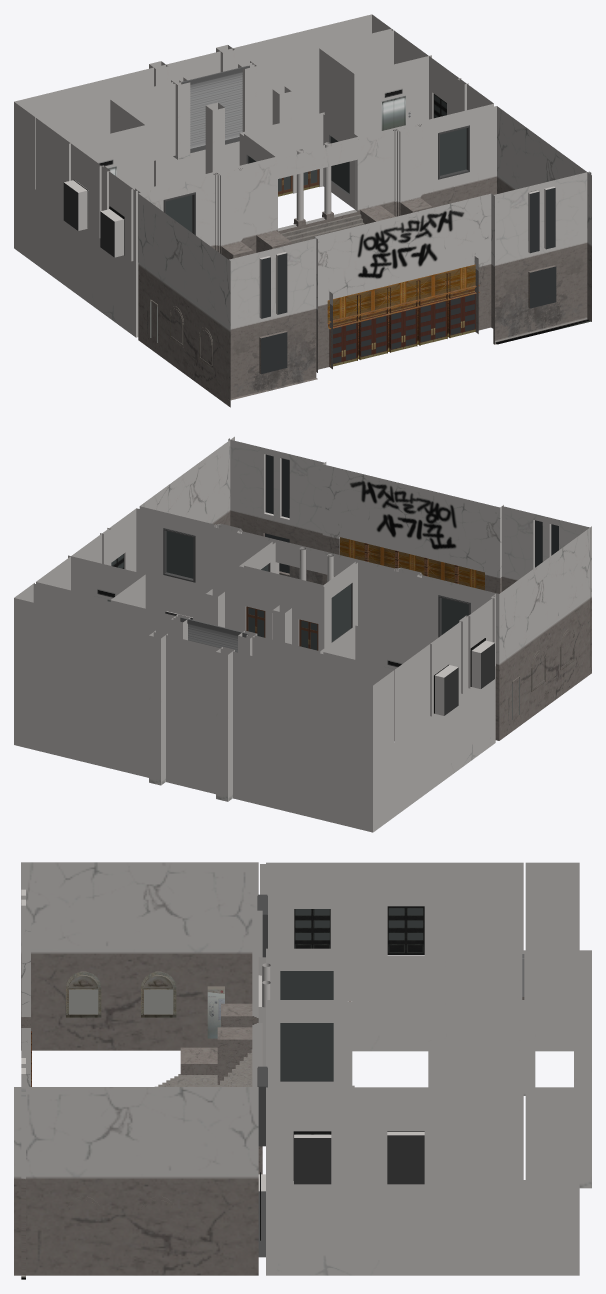
File: Cityhall_inside.FBX
3 views of the same model, one above another, from view 1: azimuth 30°, elevation 25°; view 2: azimuth 150°, elevation 25°; view 3: azimuth 270°, elevation 25° (orthographic). The views are drawn at different scales.
Visible parts, largest first — view 1: Cityhall_inside; view 2: Cityhall_inside; view 3: Cityhall_inside.
Part boxes in pixels (bbox=[...]): Cityhall_inside: bbox=[14, 14, 591, 407]; Cityhall_inside: bbox=[14, 436, 591, 832]; Cityhall_inside: bbox=[14, 862, 591, 1279].
Size of the model in its own units: 2560 by 971 by 2655.
